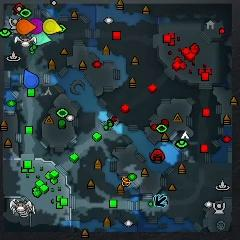p1: (23, 69, 39, 88)
p2: (31, 31, 51, 46)
p3: (31, 18, 43, 34)
p4: (43, 18, 62, 34)
p5: (17, 19, 35, 35)
x3Clone: (155, 195, 167, 207)
